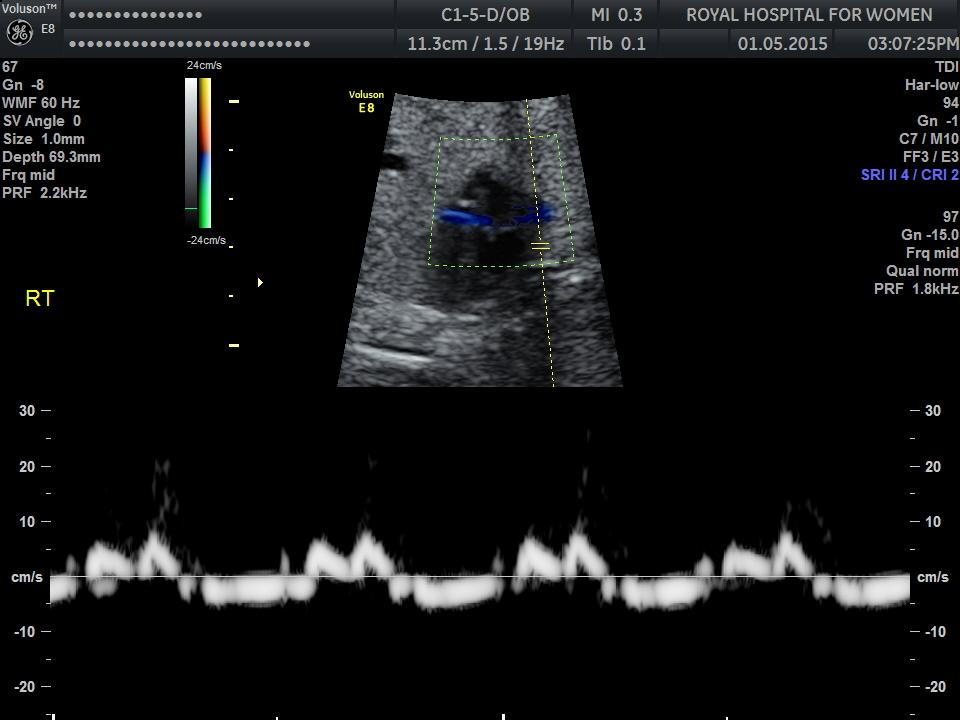Ultrasound-Waves: (56, 401, 910, 717)
